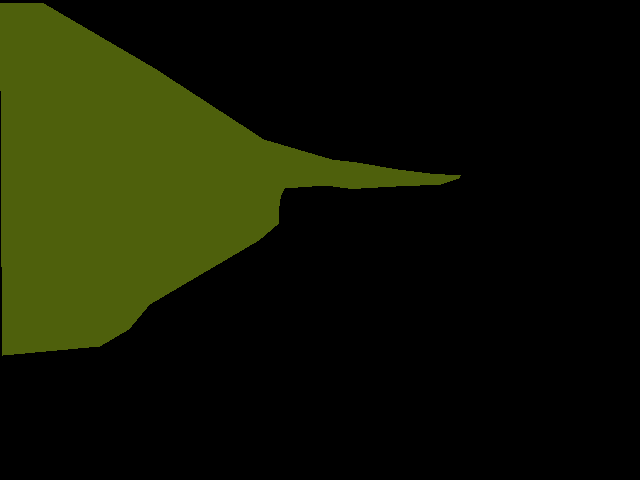Train: (0, 3, 460, 356)
